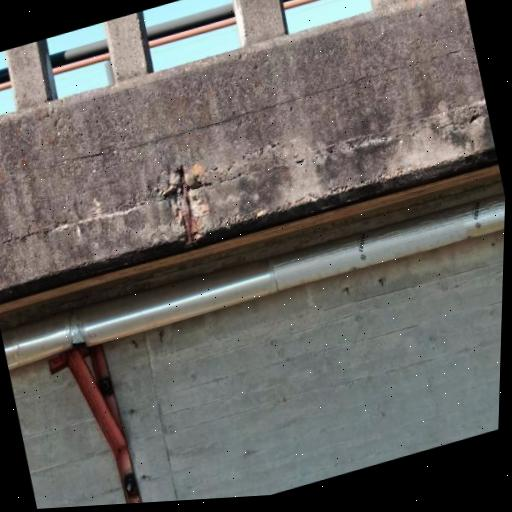exposed_rebar: (181, 172, 194, 248)
